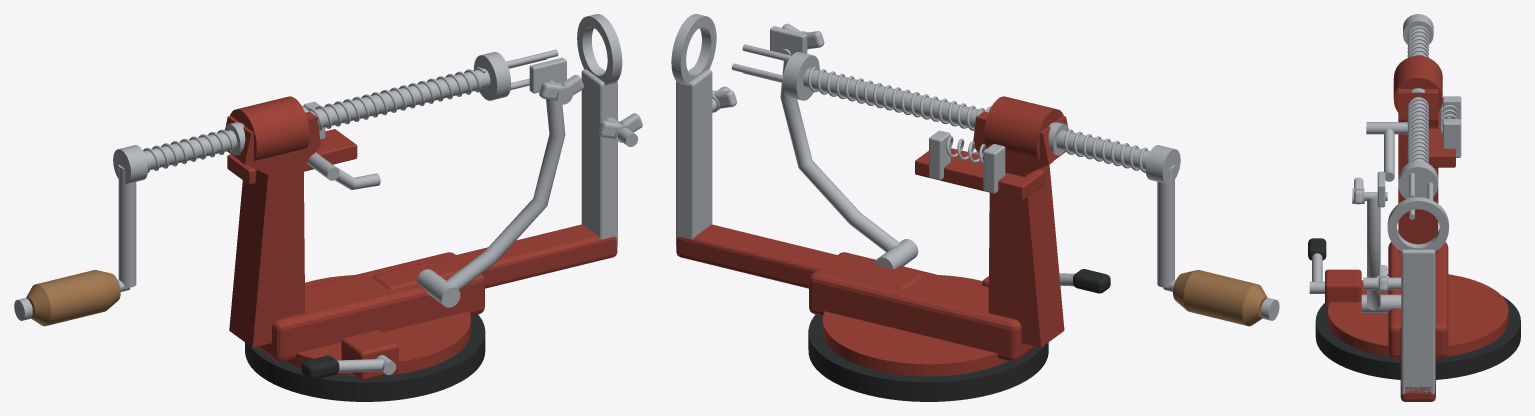
Rendered from A-NEW-20261026-APPLE-PEELER-001_LOD0_R3.glb.
The picture shows the model from 3 angles, left to right: view 1: azimuth 30°, elevation 25°; view 2: azimuth 150°, elevation 25°; view 3: azimuth 270°, elevation 25°; orthographic projection. The views are drawn at different scales.
Visible parts, largest first — view 1: upright open cast frame, cast foot bridge, rubber suction foot, front support rail, upright coring bracket, suction upper cover, continuous spindle core, rounded wooden crank grip, curved peeler arm, spindle bearing housing, offset crank arm, visible spindle thread.001 (+11 smaller); view 2: upright open cast frame, cast foot bridge, front support rail, rubber suction foot, suction upper cover, upright coring bracket, continuous spindle core, rounded wooden crank grip, spindle bearing housing, curved peeler arm, spring anchor bridge, visible spindle thread.001 (+10 smaller); view 3: suction upper cover, upright coring bracket, rubber suction foot, cast foot bridge, upright open cast frame, blunt open core ring, spindle bearing housing, curved peeler arm, suction cam bracket, visible spindle thread.001, fork spindle hub, spring anchor bridge (+15 smaller).
Part boxes in pixels (bbox=[...]): upright open cast frame: bbox=[225, 105, 320, 347]; cast foot bridge: bbox=[257, 252, 484, 362]; rubber suction foot: bbox=[245, 314, 485, 401]; front support rail: bbox=[372, 224, 617, 289]; upright coring bracket: bbox=[581, 67, 617, 247]; suction upper cover: bbox=[286, 275, 470, 376]; continuous spindle core: bbox=[143, 68, 490, 169]; rounded wooden crank grip: bbox=[26, 270, 120, 326]; curved peeler arm: bbox=[445, 99, 565, 290]; spindle bearing housing: bbox=[230, 96, 309, 164]; offset crank arm: bbox=[118, 164, 136, 287]; visible spindle thread.001: bbox=[307, 67, 485, 131]; upright open cast frame: bbox=[973, 106, 1067, 347]; cast foot bridge: bbox=[809, 252, 1036, 362]; front support rail: bbox=[676, 224, 921, 289]; rubber suction foot: bbox=[808, 314, 1048, 401]; suction upper cover: bbox=[822, 275, 1007, 376]; upright coring bracket: bbox=[676, 67, 712, 247]; continuous spindle core: bbox=[803, 68, 1149, 170]; rounded wooden crank grip: bbox=[1173, 270, 1267, 326]; spindle bearing housing: bbox=[984, 96, 1063, 164]; curved peeler arm: bbox=[780, 61, 899, 251]; spring anchor bridge: bbox=[915, 148, 1044, 200]; visible spindle thread.001: bbox=[808, 67, 984, 130]; suction upper cover: bbox=[1328, 274, 1508, 356]; upright coring bracket: bbox=[1401, 249, 1435, 394]; rubber suction foot: bbox=[1315, 296, 1520, 379]; cast foot bridge: bbox=[1388, 242, 1448, 358]; upright open cast frame: bbox=[1398, 89, 1438, 252]; blunt open core ring: bbox=[1387, 197, 1448, 251]; spindle bearing housing: bbox=[1393, 55, 1442, 112]; curved peeler arm: bbox=[1367, 198, 1380, 310]; suction cam bracket: bbox=[1325, 269, 1361, 308]; visible spindle thread.001: bbox=[1407, 97, 1428, 163]; fork spindle hub: bbox=[1398, 161, 1438, 199]; spring anchor bridge: bbox=[1428, 111, 1455, 167].
Size of the model in its own units: 0.3871 by 0.17 by 0.139.
